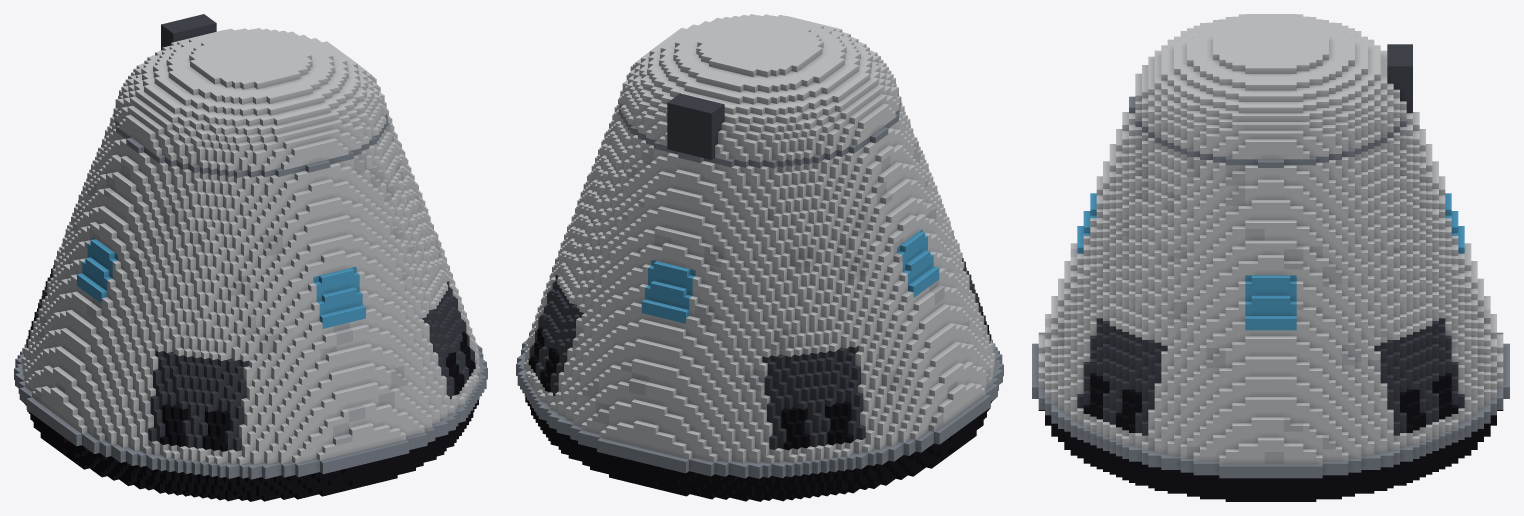
3 renders of one model, left to right at view 1: azimuth 30°, elevation 25°; view 2: azimuth 150°, elevation 25°; view 3: azimuth 270°, elevation 25°, orthographic. The views are drawn at different scales.
Visible parts, largest first — view 1: capsule_4; view 2: capsule_4; view 3: capsule_4.
Boxes of the visible parts, left/top/right/bottom form: capsule_4: left=14, top=14, right=487, bottom=501; capsule_4: left=516, top=14, right=1003, bottom=501; capsule_4: left=1032, top=14, right=1509, bottom=501.
Size of the model in its own units: 3.7 by 3.1 by 3.7.
